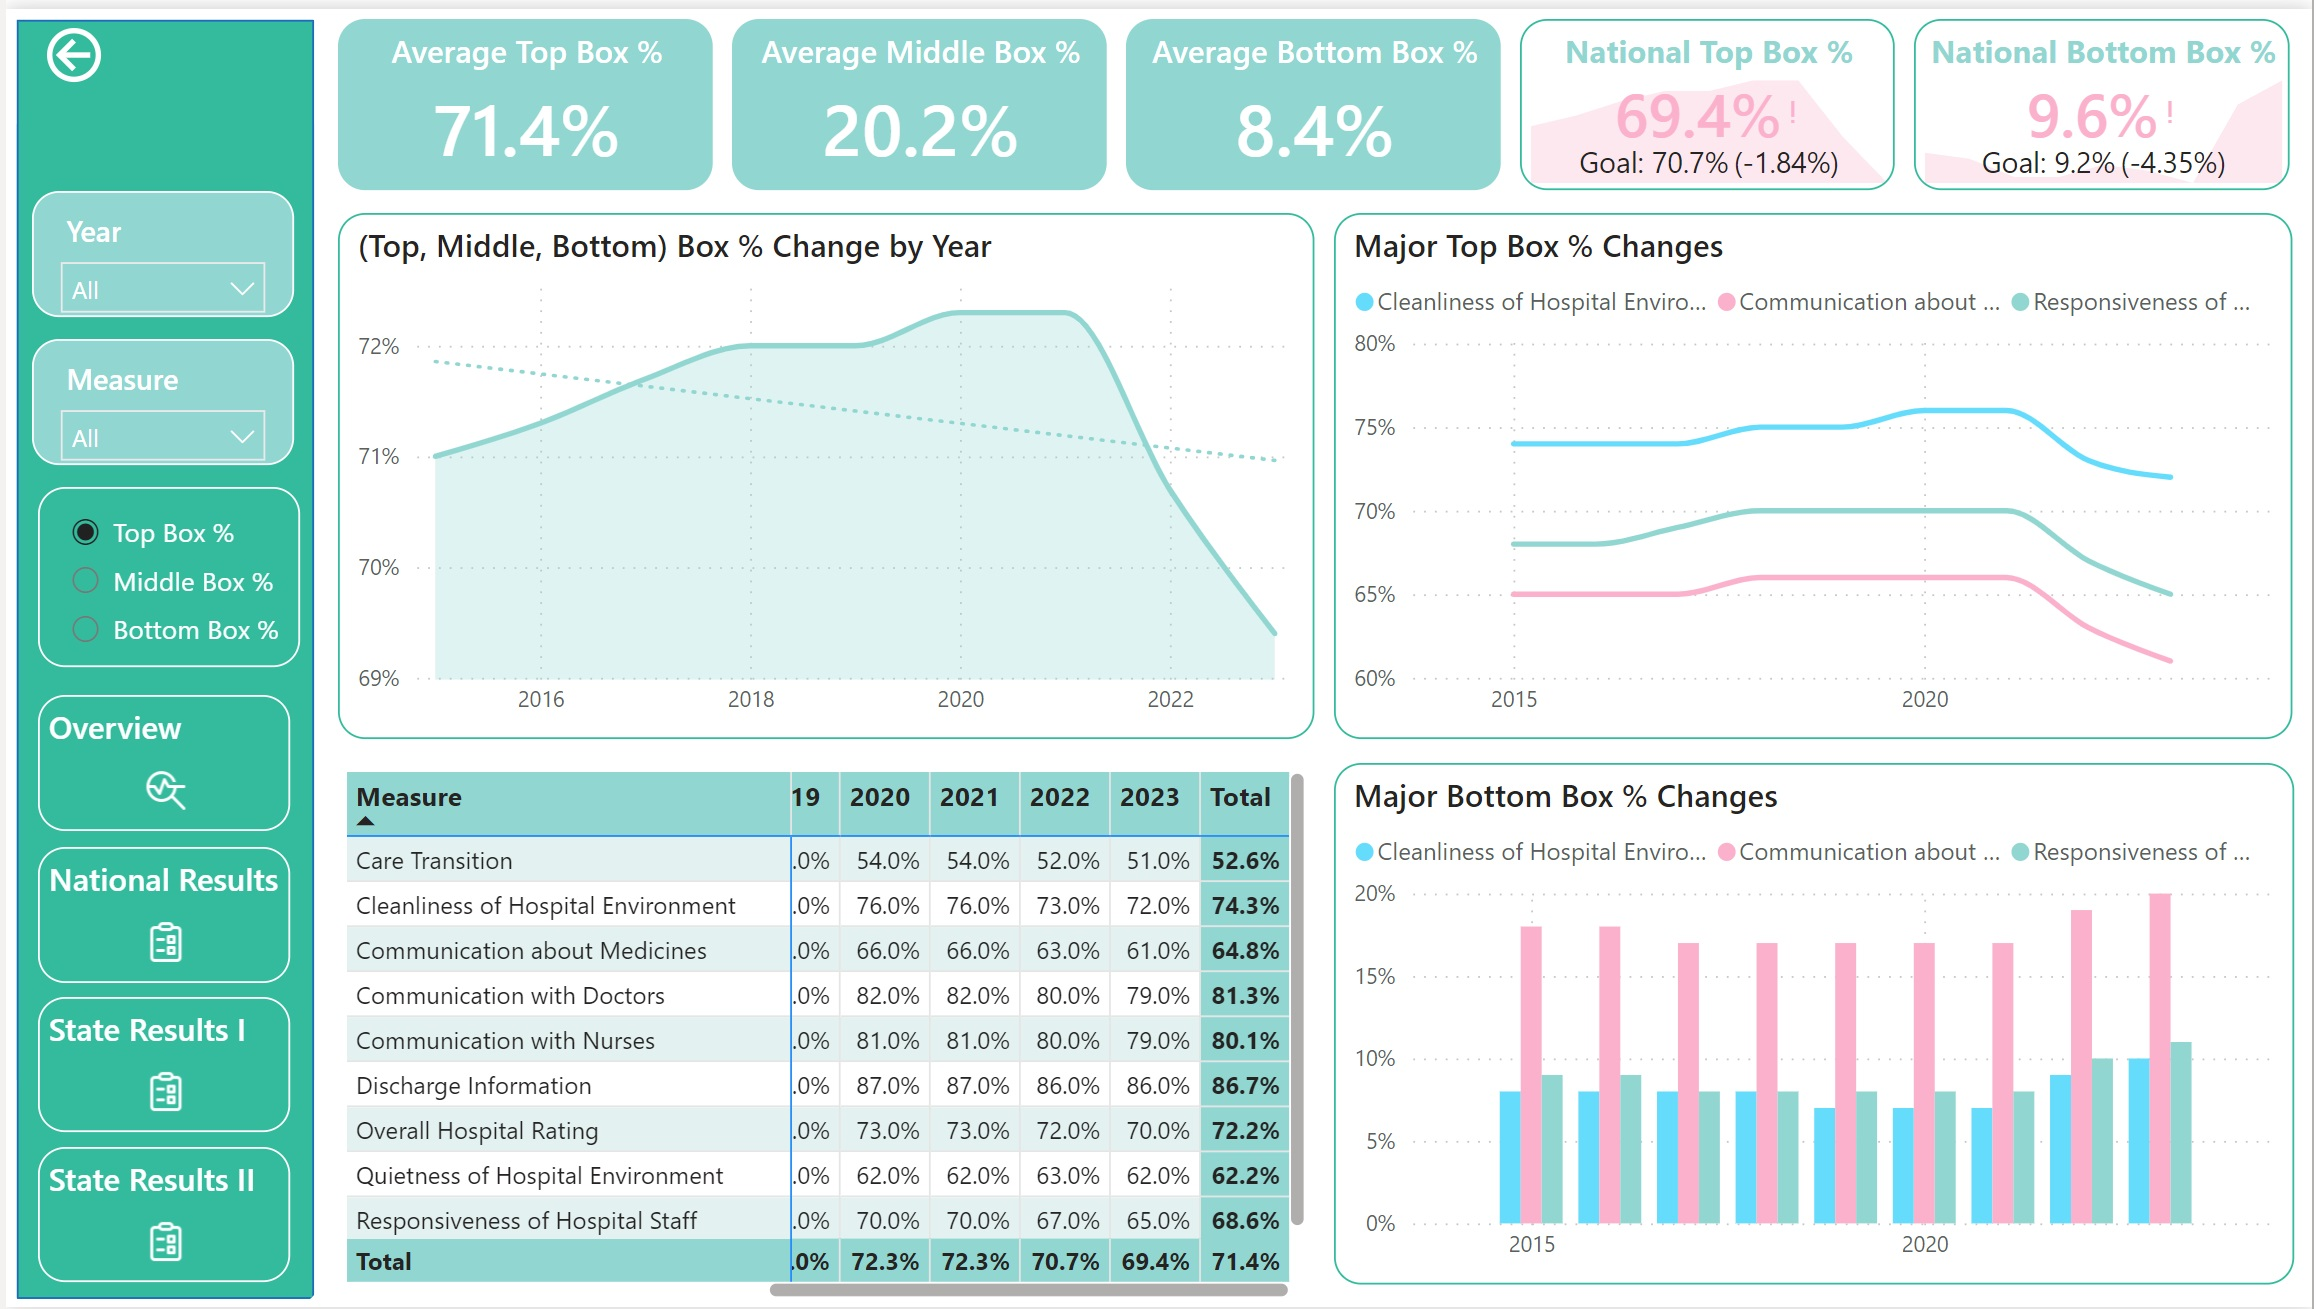

The page's visual inventory and layout, read from the dashboard file:
{"tool":"powerbi","page":{"name":" National Results","canvas":[1280,720],"ordinal":1},"visuals":[{"type":"shape","box":[0,0,175,720],"z":0},{"type":"card","title":"Average Top Box %","fields":{"Values":["Measure Table.National Top Box %"]},"box":[184.3,6,208,95],"z":1000},{"type":"card","title":"Average Middle Box %","fields":{"Values":["Measure Table.National Middle Box %"]},"box":[403,6,208,95],"z":2000},{"type":"actionButton","title":"Overview","box":[17.8,380.8,140,75.5],"z":2000,"group":"g1"},{"type":"card","title":"Average Bottom Box %","fields":{"Values":["Measure Table.National Bottom Box %"]},"box":[621.7,6,208,95],"z":3000},{"type":"actionButton","title":"National Results","box":[17.8,465.2,140,75.5],"z":3000,"group":"g1"},{"type":"areaChart","title":"(Top, Middle, Bottom) Box % Change by  Year","fields":{"Y":["Measure Table.National Top Box %"],"Category":["Reports.Year"]},"box":[184.3,113.2,541.8,292],"z":4000},{"type":"actionButton","title":"State Results I","box":[17.8,548.4,140,75],"z":4000,"group":"g1"},{"type":"slicer","fields":{"Values":["Reports.Year"]},"box":[14.4,101,145.4,69.9],"z":5000},{"type":"actionButton","title":"State Results II","box":[17.8,631.7,140,75],"z":5000,"group":"g1"},{"type":"slicer","fields":{"Values":["Survey Measures.Measure"]},"box":[14.4,183.2,145.4,69.9],"z":6000},{"type":"kpi","title":"National Bottom Box % ","fields":{"TrendLine":["Reports.Year"],"Indicator":["Measure Table.National Bottom Box %"],"Goal":["Measure Table.National Bottom Box Prev"]},"box":[1059.1,6,208.7,95],"z":7000},{"type":"kpi","title":"National Top Box % ","fields":{"TrendLine":["Reports.Year"],"Indicator":["Measure Table.National Top Box %"],"Goal":["Measure Table.National Top Box Prev"]},"box":[840.4,6,208,95],"z":8000},{"type":"pivotTable","fields":{"Values":["Measure Table.National Top Box %"],"Rows":["Survey Measures.Measure"],"Columns":["Reports.Year"]},"box":[184.3,418.5,541.8,302],"z":9000},{"type":"slicer","fields":{"Values":["BOX Selector.BOX Selector"]},"box":[17.8,265.3,145.4,100],"z":10000},{"type":"lineChart","title":"Major Top Box % Changes","fields":{"Category":["Reports.Year"],"Y":["Measure Table.Cleanliness of Hospital Environment","Measure Table.Communication about Medicines","Measure Table.Responsiveness of Hospital Staff TB"]},"box":[737.1,113.2,531.8,292],"z":11000},{"type":"clusteredColumnChart","title":"Major Bottom Box % Changes","fields":{"Category":["Reports.Year"],"Y":["Measure Table.Cleanliness of Hospital Environment BB","Measure Table.Communication about Medicines BB","Measure Table.Responsiveness of Hospital Staff BB"]},"box":[737.1,418,532.9,289.7],"z":12000},{"type":"group","id":"g1","title":"Group 1","box":[17.8,380.8,140,325.9],"z":13000},{"type":"actionButton","box":[17.8,5.6,43.3,40],"z":14000}]}

Visuals, with their boxes in screenshot pixels (x1, y1, x2, y2), scaled from the page's 1280x720 canvas onto the 2323x1309 screenshot:
shape: 0, 0, 318, 1308
"Average Top Box %" card: 334, 11, 712, 184
"Average Middle Box %" card: 731, 11, 1109, 184
"Overview" actionButton: 32, 692, 286, 830
"Average Bottom Box %" card: 1128, 11, 1506, 184
"National Results" actionButton: 32, 846, 286, 983
"(Top, Middle, Bottom) Box % Change by  Year" areaChart: 334, 206, 1318, 737
"State Results I" actionButton: 32, 997, 286, 1133
slicer - Reports.Year: 26, 184, 290, 311
"State Results II" actionButton: 32, 1148, 286, 1285
slicer - Survey Measures.Measure: 26, 333, 290, 460
"National Bottom Box % " kpi: 1922, 11, 2301, 184
"National Top Box % " kpi: 1525, 11, 1903, 184
pivotTable - Measure Table.National Top Box % x Survey Measures.Measure: 334, 761, 1318, 1308
slicer - BOX Selector.BOX Selector: 32, 482, 296, 664
"Major Top Box % Changes" lineChart: 1338, 206, 2303, 737
"Major Bottom Box % Changes" clusteredColumnChart: 1338, 760, 2305, 1287
"Group 1" group: 32, 692, 286, 1285
actionButton: 32, 10, 111, 83
